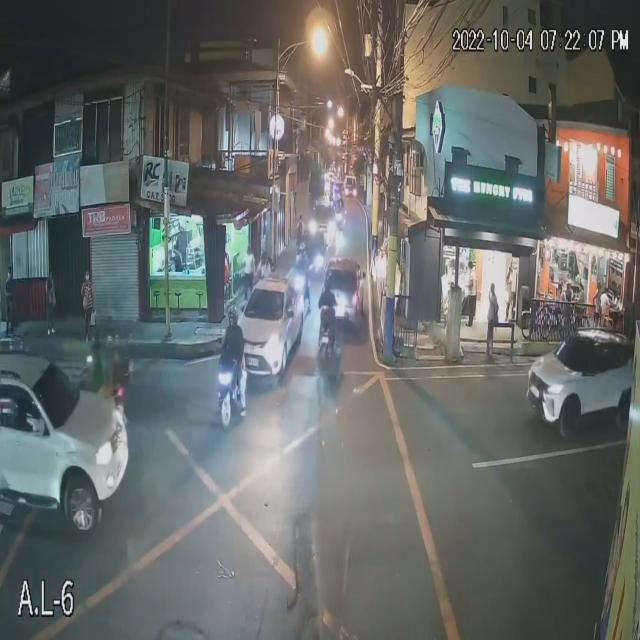Full-Faced: (224, 301, 240, 327)
